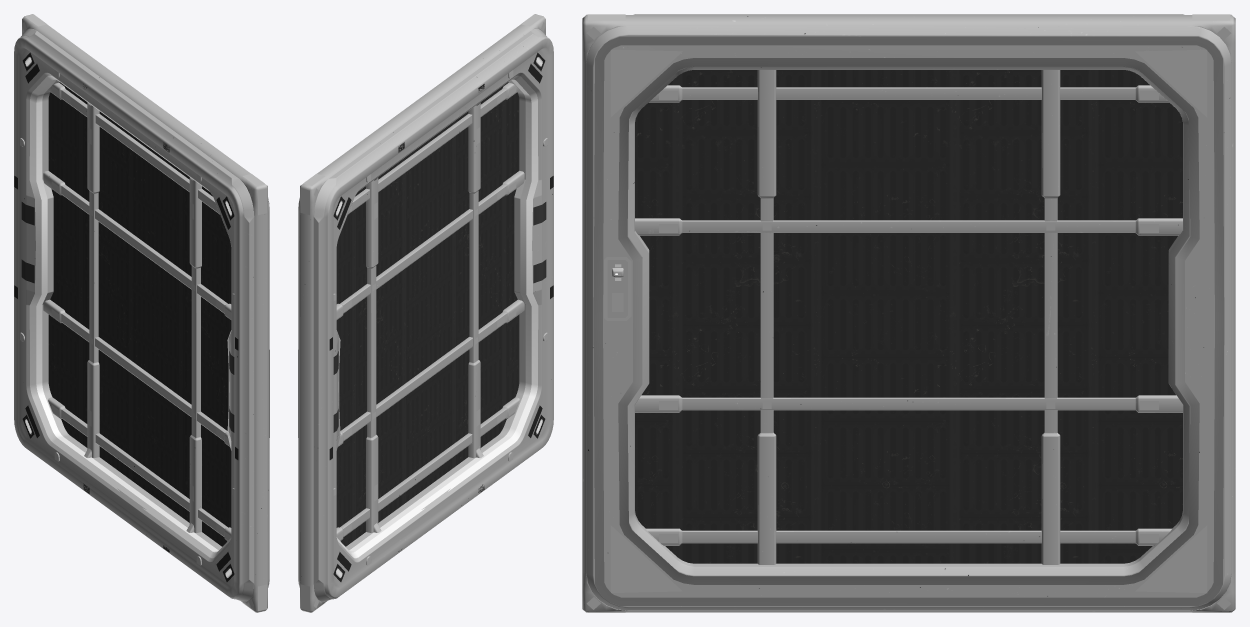
The model's file is SM_Panel_1_Merged.fbx.
3 renders of one model, left to right at view 1: azimuth 30°, elevation 25°; view 2: azimuth 150°, elevation 25°; view 3: azimuth 270°, elevation 25°, orthographic. The views are drawn at different scales.
Visible parts, largest first — view 1: SM_Panel_1_Merged_LOD0; view 2: SM_Panel_1_Merged_LOD0; view 3: SM_Panel_1_Merged_LOD0.
Part boxes in pixels (bbox=[...]): SM_Panel_1_Merged_LOD0: bbox=[14, 14, 269, 612]; SM_Panel_1_Merged_LOD0: bbox=[298, 14, 553, 612]; SM_Panel_1_Merged_LOD0: bbox=[582, 14, 1235, 612].
Bounding box in the file's own units: 31.75 × 405 × 405.
